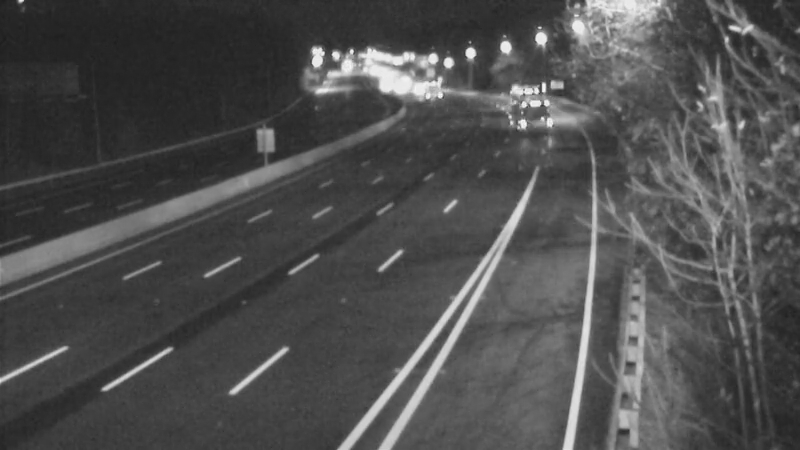vehicle: (389, 62, 439, 112), (497, 67, 547, 117), (410, 70, 460, 120), (502, 87, 552, 137)
